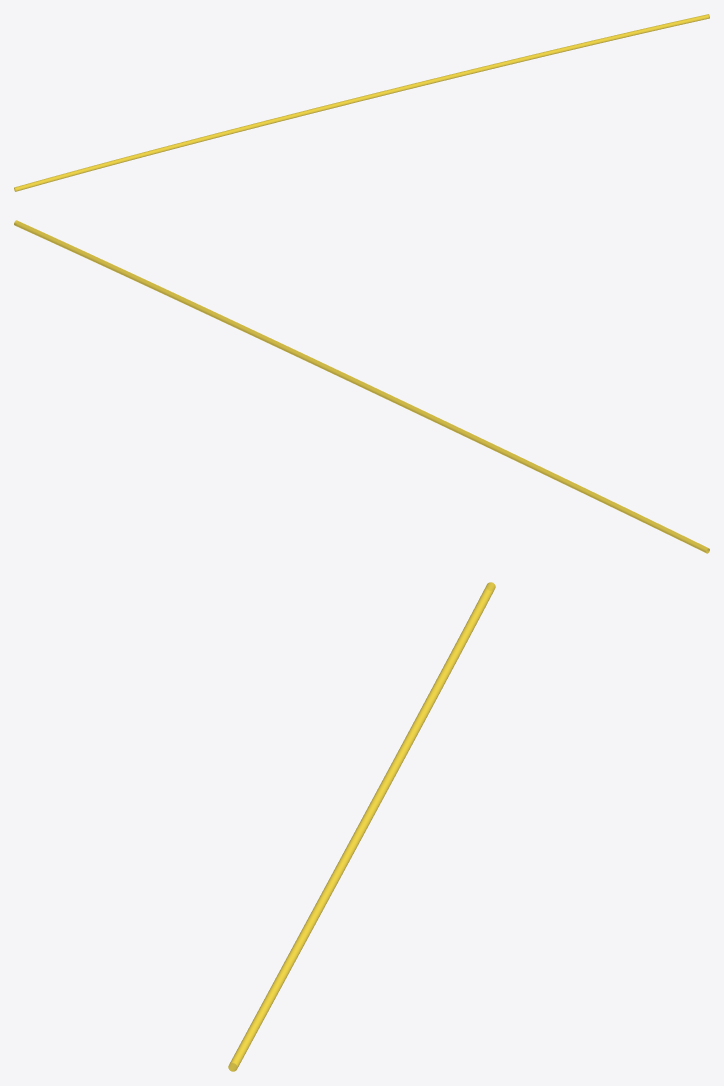
Rendered from Event_84804159_track_32.fbx.
3 views of the same model, one above another, from view 1: azimuth 30°, elevation 25°; view 2: azimuth 150°, elevation 25°; view 3: azimuth 270°, elevation 25° (orthographic). The views are drawn at different scales.
Visible parts, largest first — view 1: Model; view 2: Model; view 3: Model.
Part boxes in pixels (x1=…): Model: x1=14, y1=14, x2=709, y2=191; Model: x1=14, y1=220, x2=709, y2=553; Model: x1=228, y1=582, x2=495, y2=1071.
Size of the model in its own units: 6.26 by 0.675 by 1.15.
